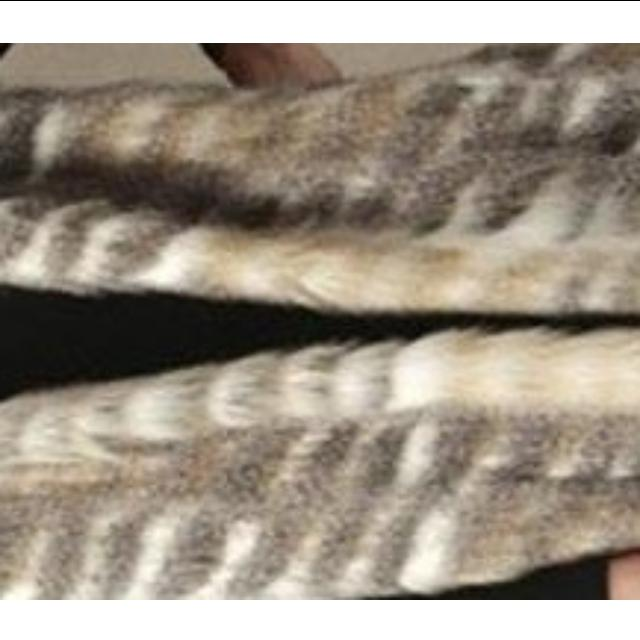polyester: (0, 41, 640, 598)
